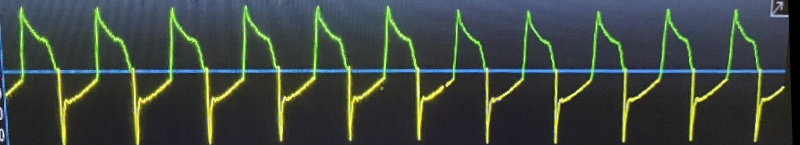peepi: (0, 0, 774, 145)
